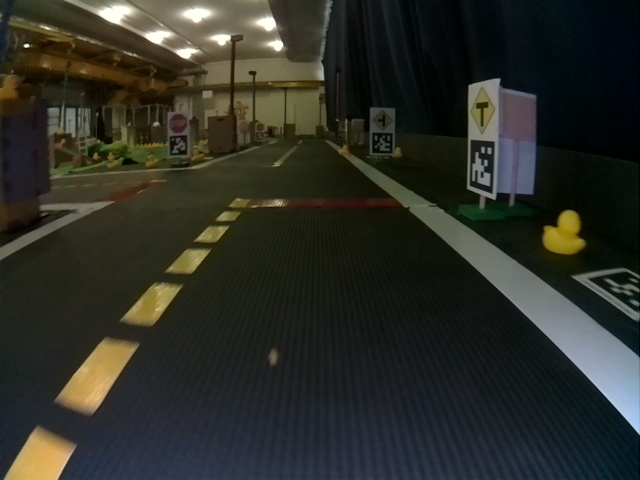Duckie: (541, 209, 587, 255), (393, 147, 403, 157), (149, 154, 159, 163), (340, 145, 347, 153), (107, 159, 117, 164)
Intersection sign: (471, 87, 496, 133), (374, 110, 392, 128)
QR code: (572, 266, 639, 320), (468, 141, 493, 192), (372, 133, 393, 153), (168, 135, 187, 155)
Stop sign: (169, 115, 187, 132)
